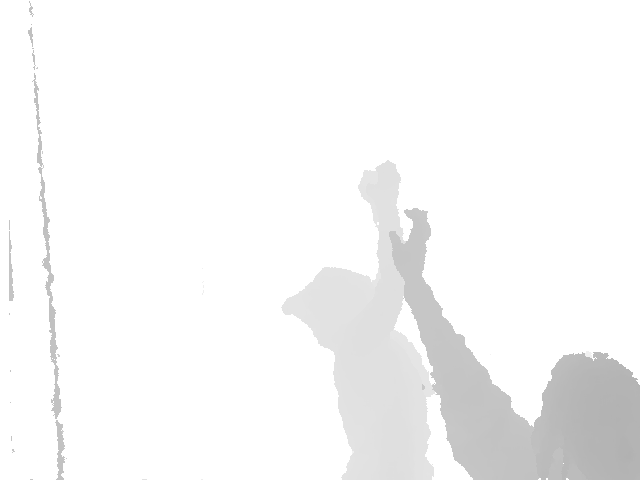hand: (388, 208, 432, 275), (359, 161, 400, 203)
head: (536, 353, 640, 479), (280, 265, 379, 343)
person: (388, 208, 640, 480), (280, 161, 433, 480)
